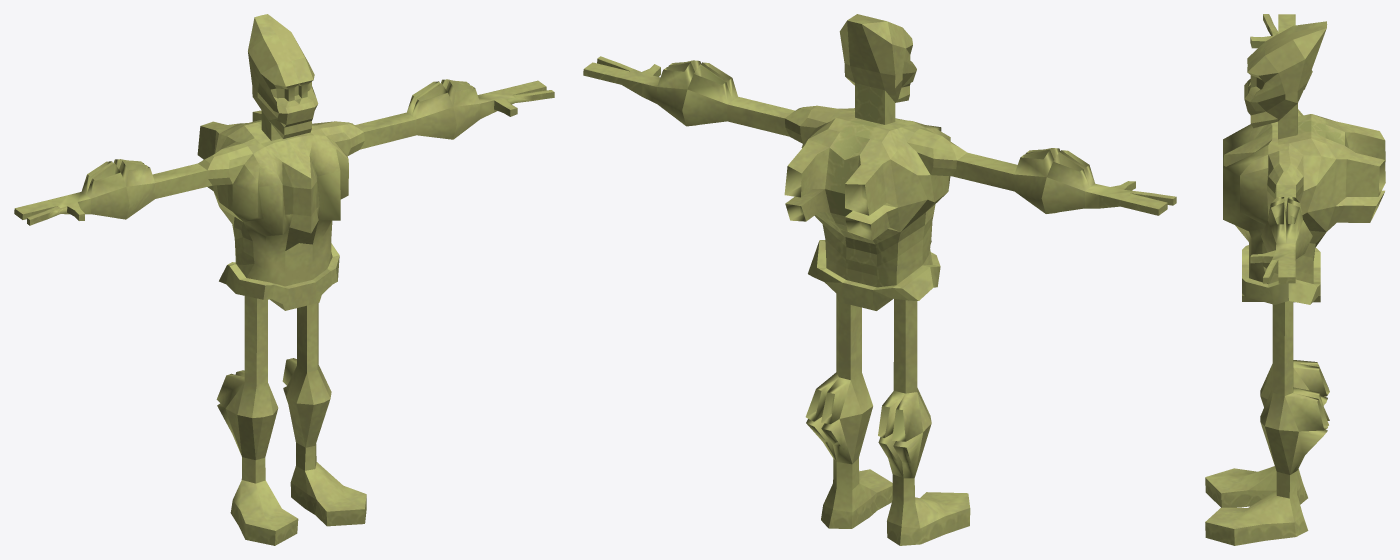
File: sand_alien.fbx
3 renders of one model, left to right at view 1: azimuth 30°, elevation 25°; view 2: azimuth 150°, elevation 25°; view 3: azimuth 270°, elevation 25°, orthographic. The views are drawn at different scales.
Parts seen in each view (by area): view 1: alien:RoadKillOut; view 2: alien:RoadKillOut; view 3: alien:RoadKillOut.
Part boxes in pixels (box(x1,y1,x2,y2)): alien:RoadKillOut: box(14, 14, 554, 545); alien:RoadKillOut: box(583, 14, 1176, 545); alien:RoadKillOut: box(1205, 14, 1385, 545).
Size of the model in its own units: 9.56 by 8.3 by 2.77.
